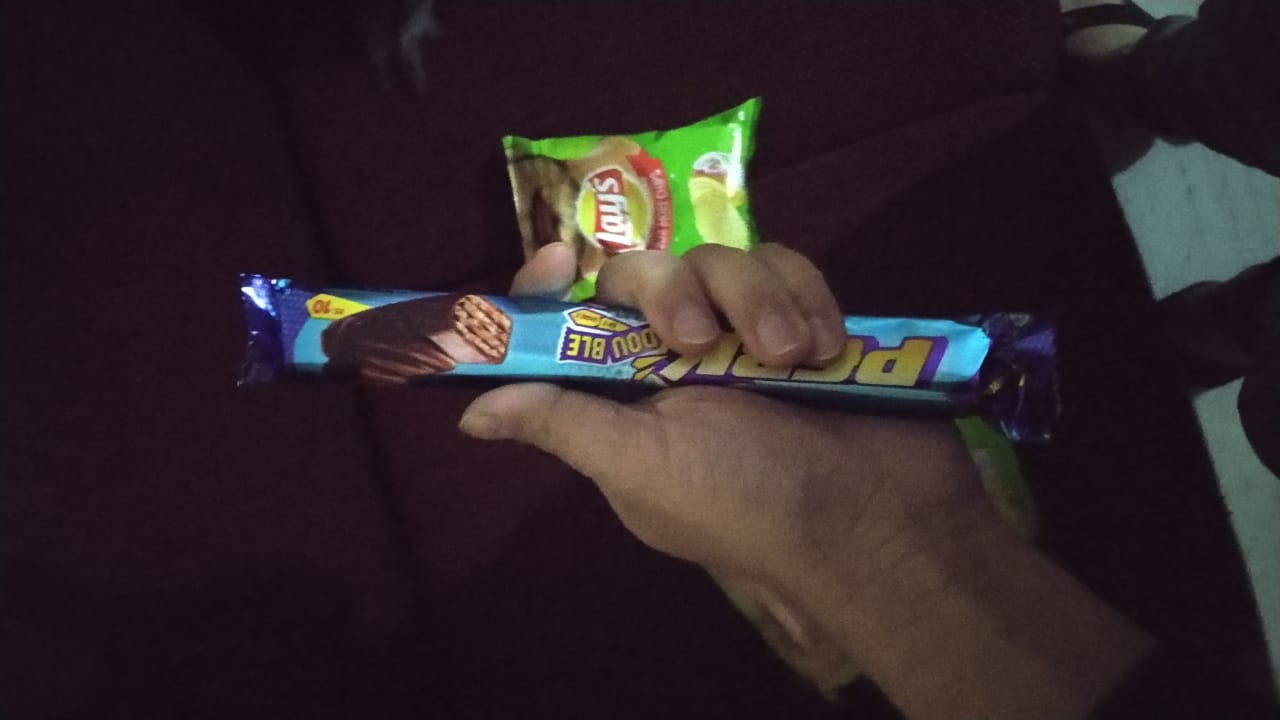perk: (209, 256, 1061, 429)
